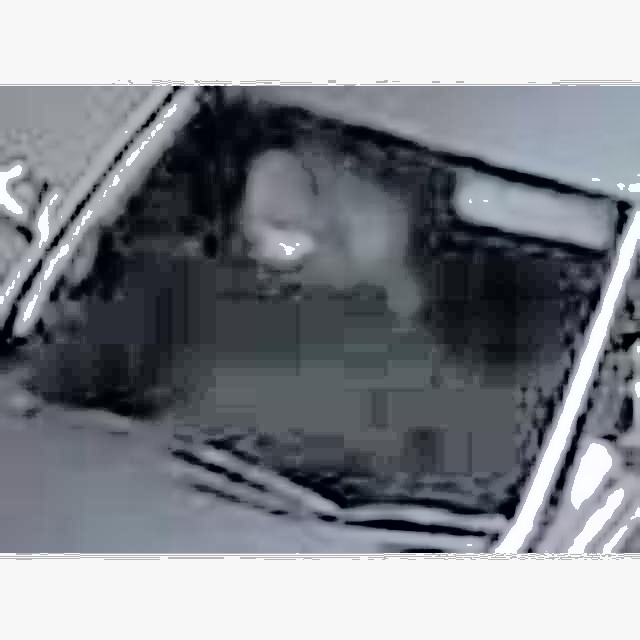pakai: (237, 145, 409, 317)
